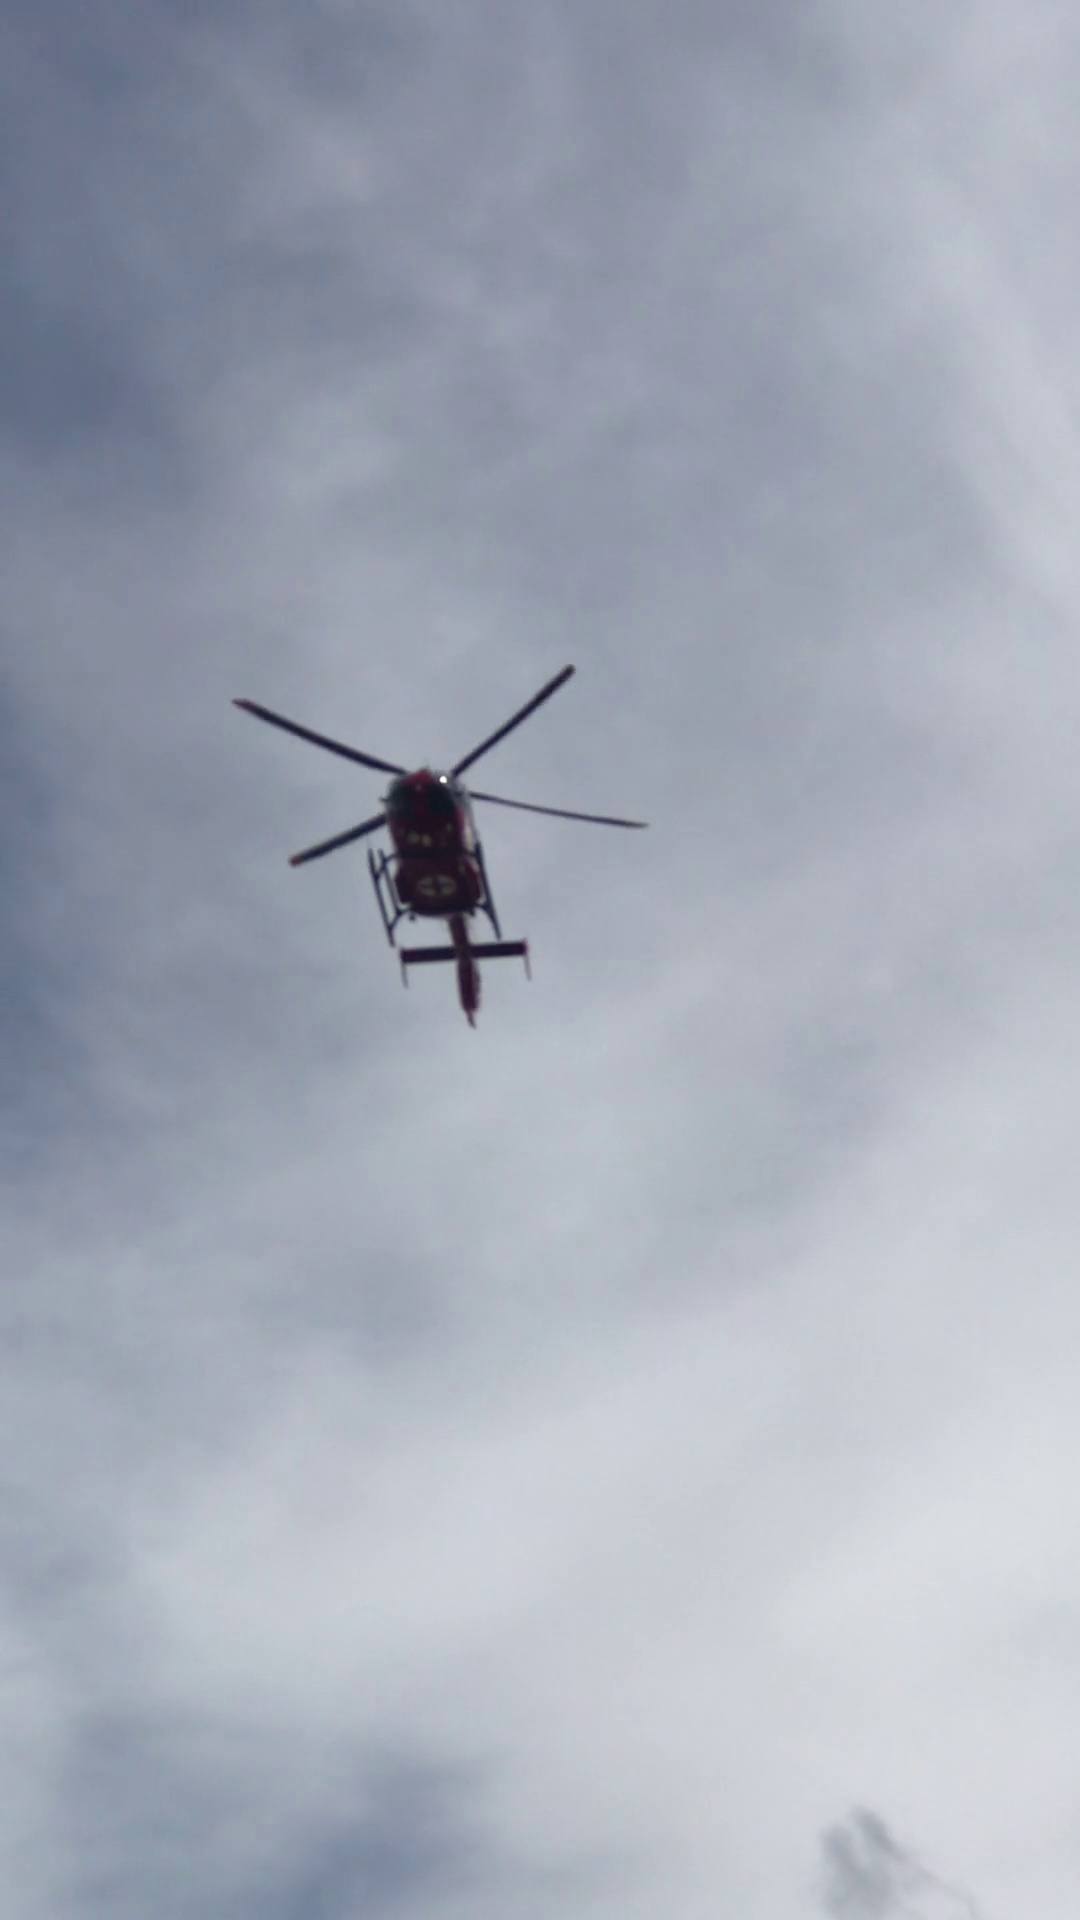heli: (229, 661, 647, 1027)
